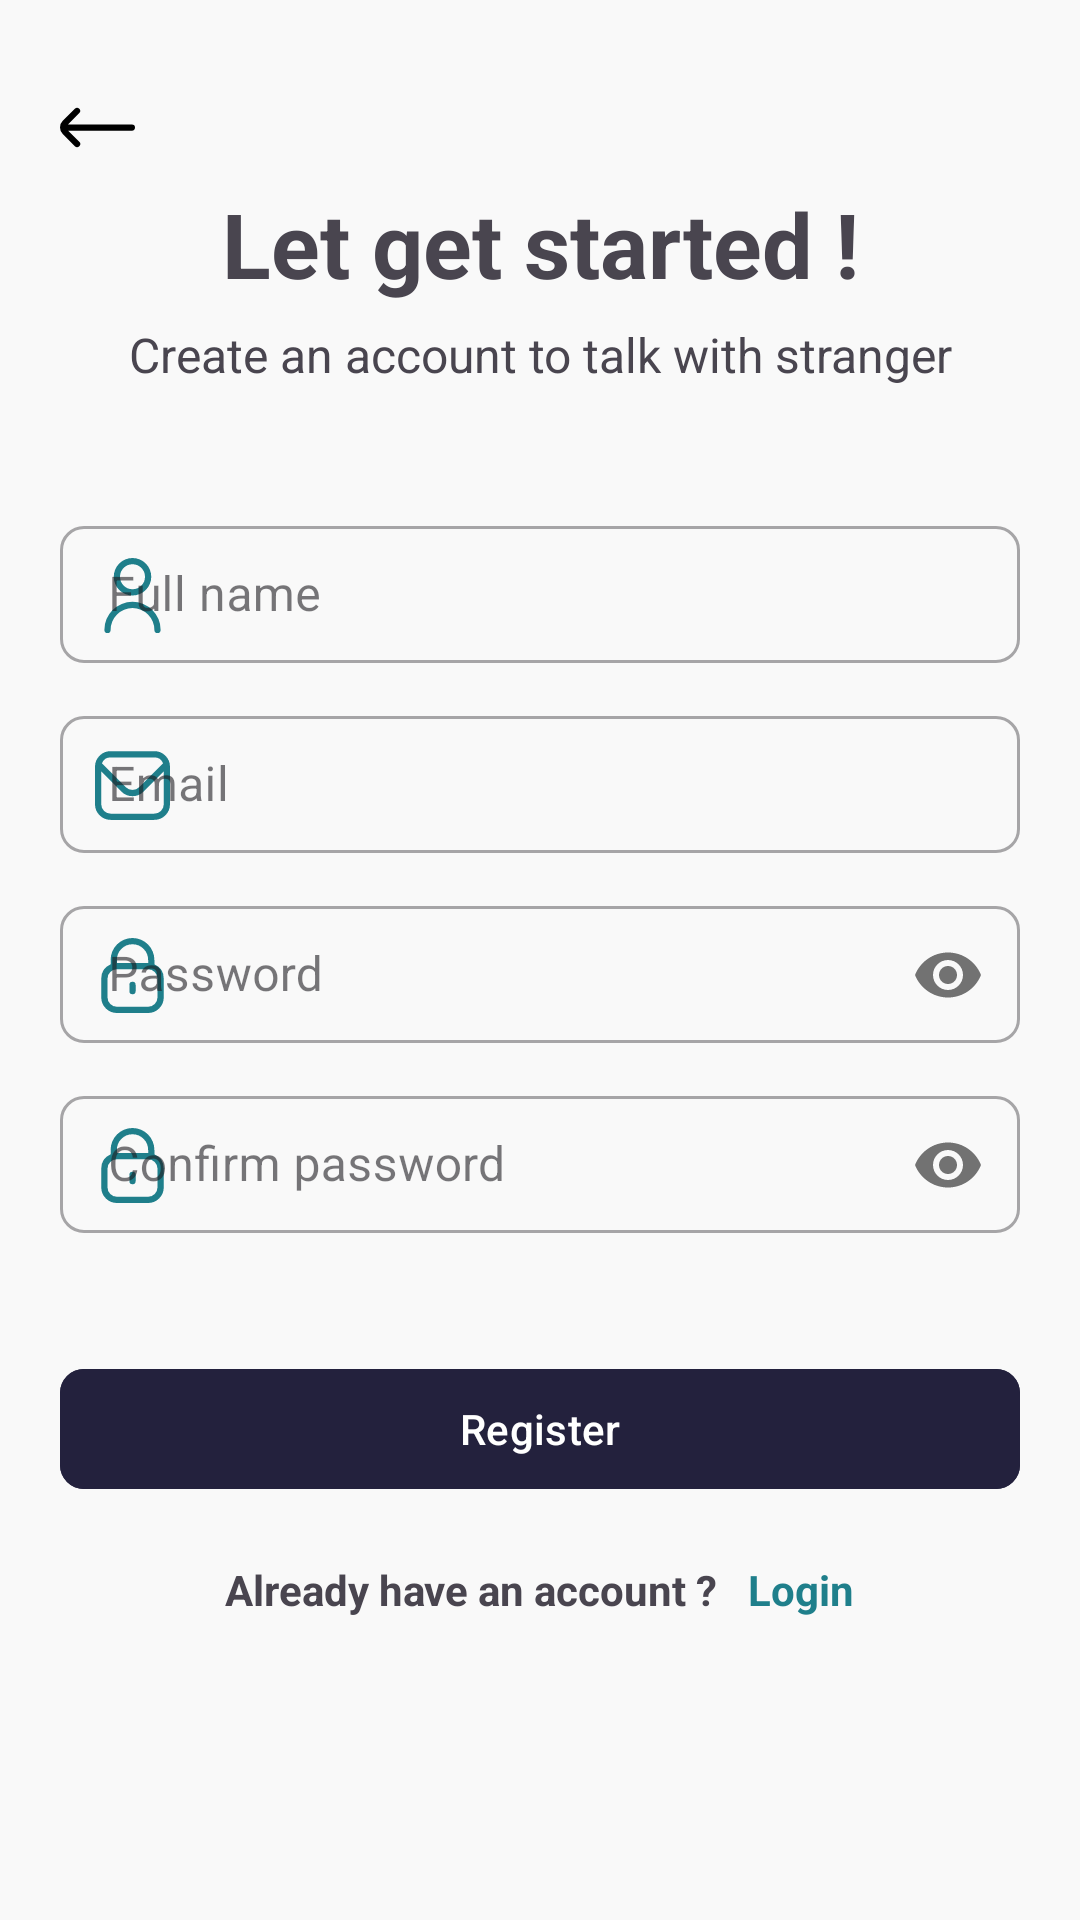

Where icons sit on this 1080 x 1920 app screen, as (x1, y1, x2, y2):
arrow left: (60, 107, 135, 148)
